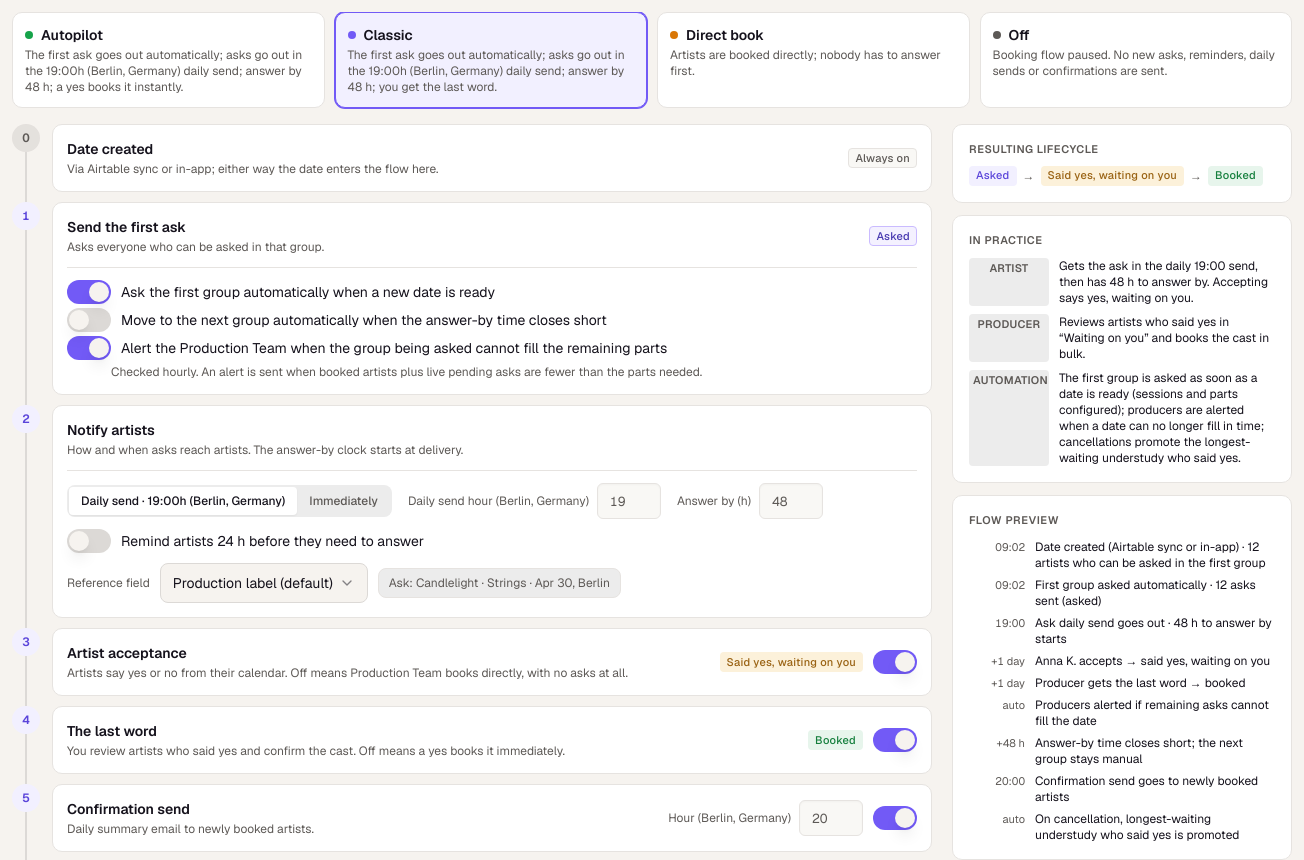
BookingFlowTab › selecting the Direct book preset flips the timeline into direct mode
Click the button "Direct book" at (813, 60), box [657,12,970,108]
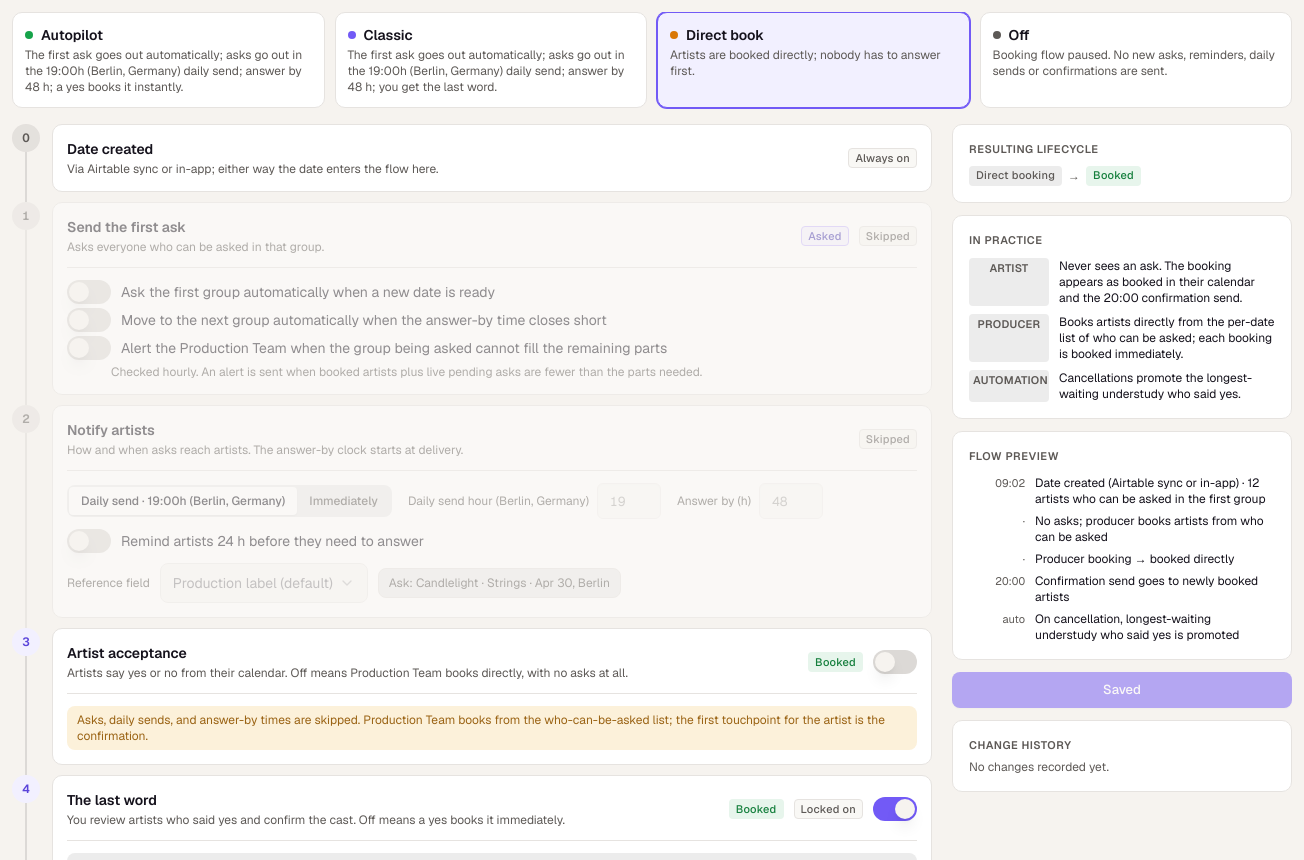
expect the text "Locked on" is shown: met, box [794,799,863,819]
